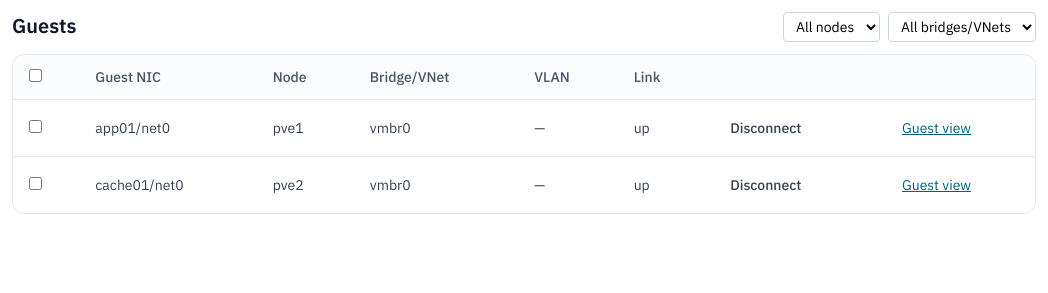
Test: GuestsPage bulk reattach read-only gating › enables the bulk Reattach button once a target is chosen and every selected node grants write
The image size is (1048, 293).
Click the checkbox named "Select all" at (36, 76), box [29,69,42,82]
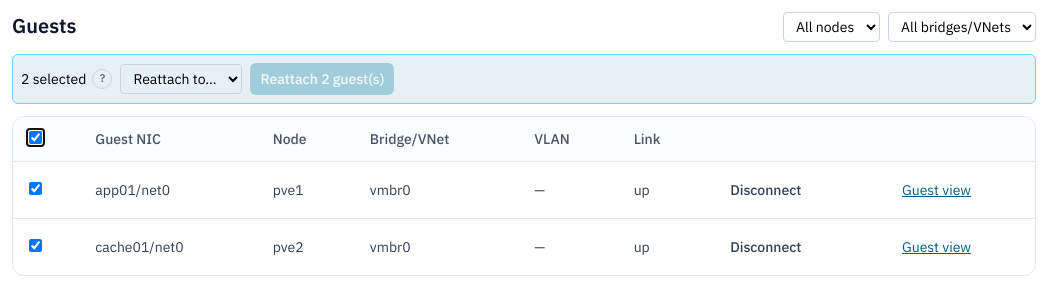
Select "vmbr1" in the dropdown named "Reattach selected guests to" at (181, 79), box [120,64,242,94]
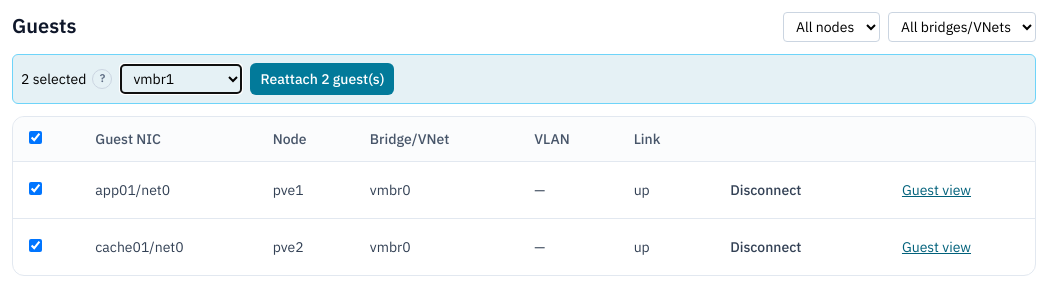
Expected: the button "Reattach 2 guest(s)" is enabled, [250,63,394,95]
